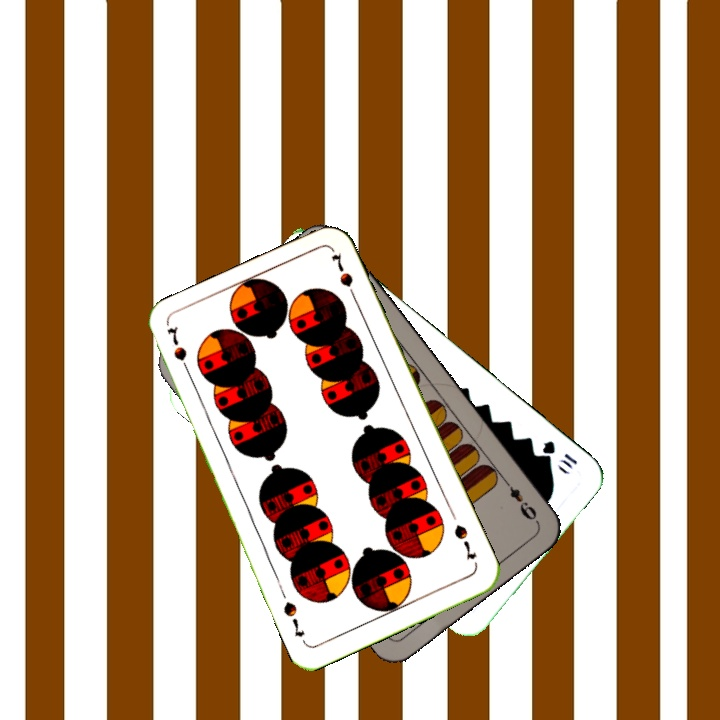E9: (499, 475, 541, 525)
G10: (537, 436, 580, 471)
S7: (163, 323, 194, 380), (450, 520, 479, 562)
